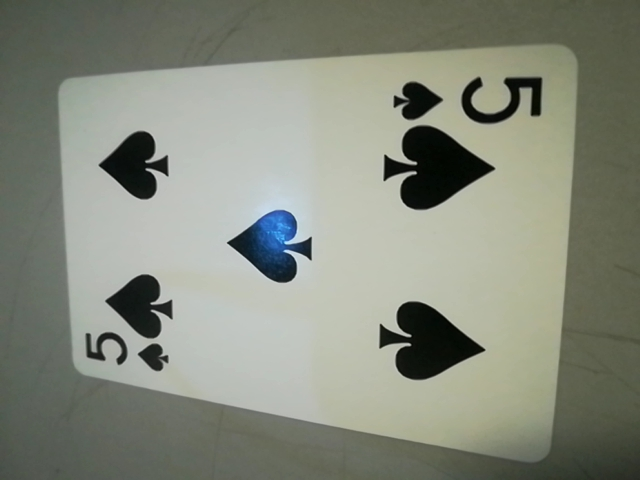ht 5: (385, 69, 559, 136)
